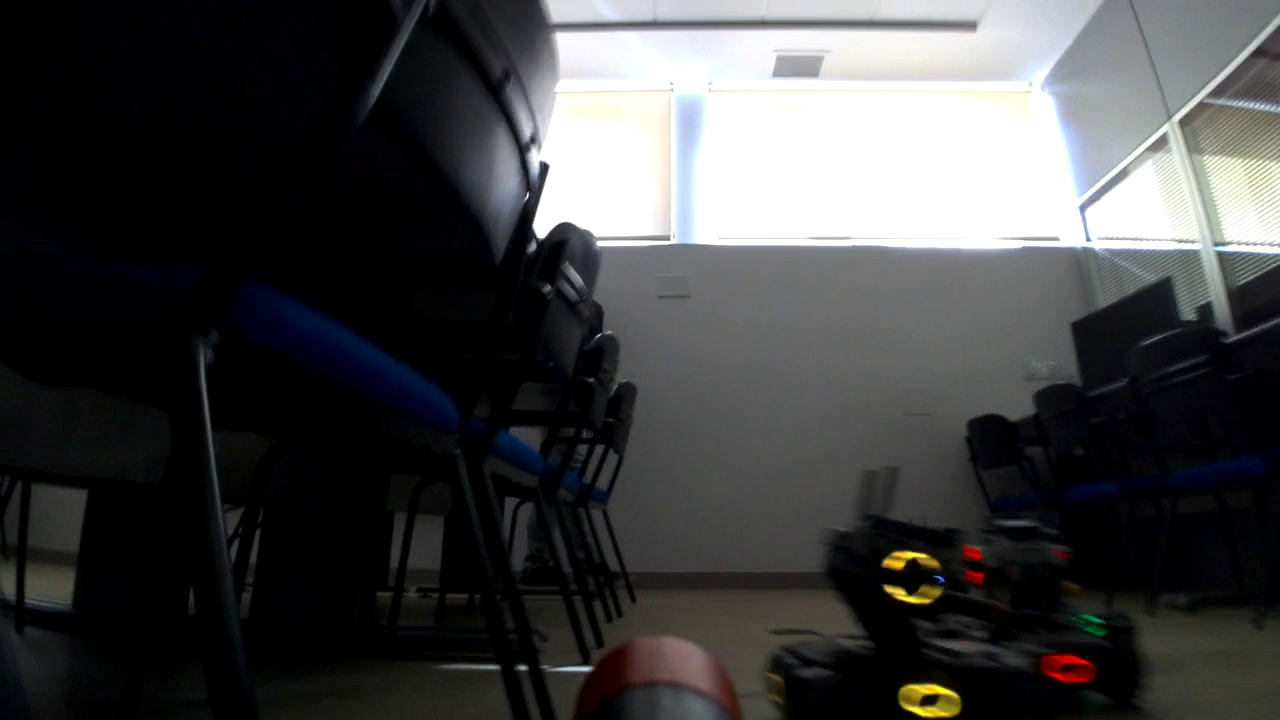robot: (766, 467, 1011, 720), (916, 516, 1147, 719)
